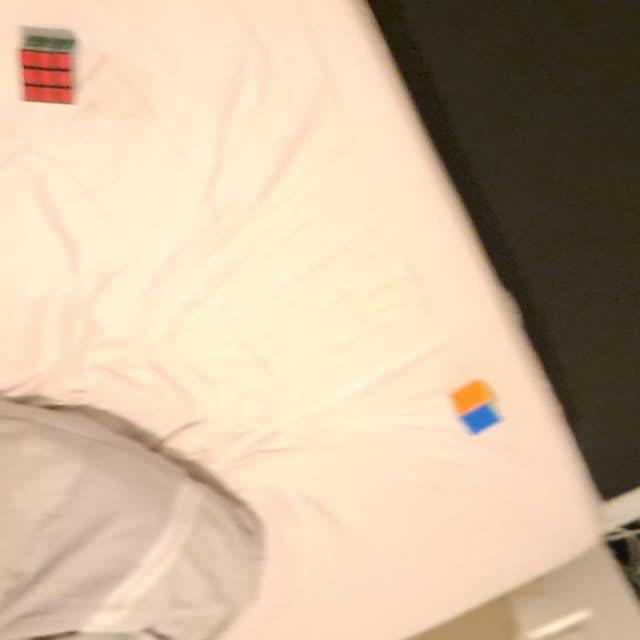rubix_cube: (16, 31, 80, 111), (448, 377, 505, 444)
